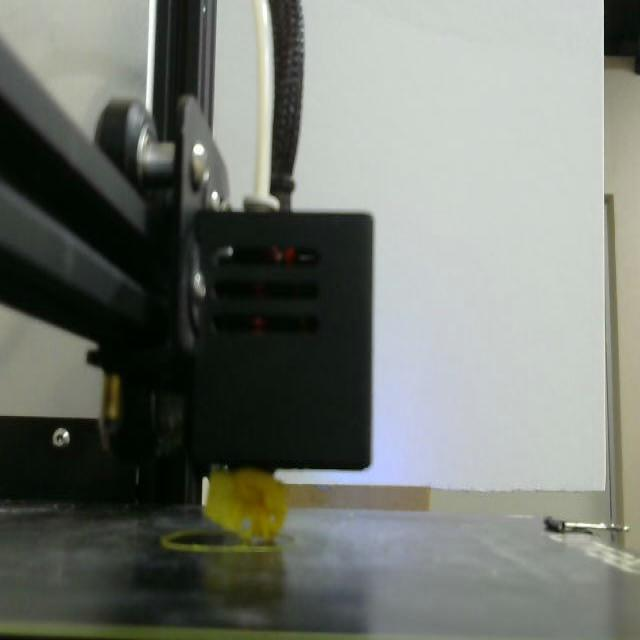spaghetti: (201, 462, 299, 558)
